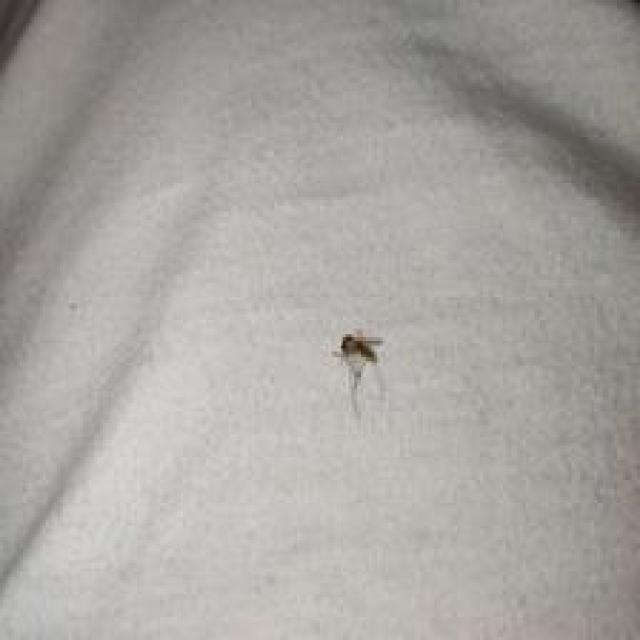Culex: (331, 329, 383, 417)
